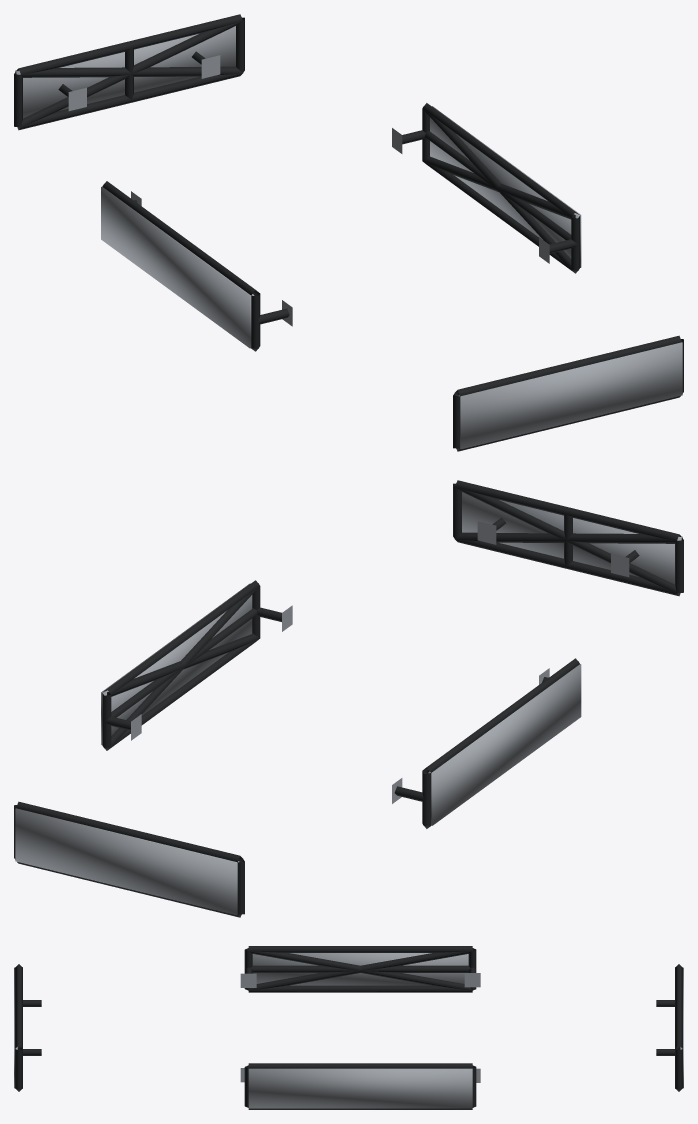
File: hayase_cetro_protecao.glb
3 renders of one model, top to bottom at view 1: azimuth 30°, elevation 25°; view 2: azimuth 150°, elevation 25°; view 3: azimuth 270°, elevation 25°, orthographic. The views are drawn at different scales.
Visible parts, largest first — view 1: Protection_front_Level3_Details, Protection_left_Level3_Details, Protection_rear_Level1_Details, Protection_rear_Level3_Details, Protection_right_Level1_Details, Protection_rear_Level2_Details, Protection_right_Level2_Details, Protection_right_Level3_Details, Protection_front_Level1_Details, Protection_left_Level1_Details; view 2: Protection_rear_Level3_Details, Protection_left_Level3_Details, Protection_front_Level1_Details, Protection_front_Level3_Details, Protection_right_Level1_Details, Protection_front_Level2_Details, Protection_right_Level2_Details, Protection_right_Level3_Details, Protection_rear_Level1_Details, Protection_left_Level1_Details; view 3: Protection_right_Level3_Details, Protection_left_Level2_Details, Protection_left_Level1_Details, Protection_left_Level3_Details, Protection_right_Level1_Details, Protection_rear_Level1_Details, Protection_front_Level1_Details.
Part boxes in pixels (x1,y1,x2,y2): Protection_front_Level3_Details: (458, 342, 682, 449); Protection_left_Level3_Details: (101, 186, 254, 348); Protection_rear_Level1_Details: (14, 14, 244, 130); Protection_rear_Level3_Details: (15, 26, 235, 118); Protection_right_Level1_Details: (392, 103, 580, 273); Protection_rear_Level2_Details: (16, 21, 242, 129); Protection_right_Level2_Details: (422, 109, 579, 272); Protection_right_Level3_Details: (430, 106, 581, 267); Protection_front_Level1_Details: (453, 335, 683, 451); Protection_left_Level1_Details: (102, 181, 292, 351); Protection_rear_Level3_Details: (15, 808, 239, 915); Protection_left_Level3_Details: (428, 664, 581, 825); Protection_front_Level1_Details: (453, 480, 683, 596); Protection_front_Level3_Details: (462, 492, 682, 584); Protection_right_Level1_Details: (102, 580, 292, 750); Protection_front_Level2_Details: (455, 487, 681, 595); Protection_right_Level2_Details: (103, 587, 259, 750); Protection_right_Level3_Details: (101, 583, 252, 744); Protection_rear_Level1_Details: (14, 801, 244, 917); Protection_left_Level1_Details: (392, 658, 579, 828); Protection_right_Level3_Details: (248, 1068, 472, 1108); Protection_left_Level2_Details: (248, 949, 472, 990); Protection_left_Level1_Details: (240, 946, 480, 992); Protection_left_Level3_Details: (252, 953, 468, 985); Protection_right_Level1_Details: (240, 1063, 480, 1109); Protection_rear_Level1_Details: (656, 964, 682, 1091); Protection_front_Level1_Details: (15, 964, 41, 1091).
Size of the model in its own units: 1.98 by 0.354 by 4.61.
Materials: 1 (1 with a texture image).
